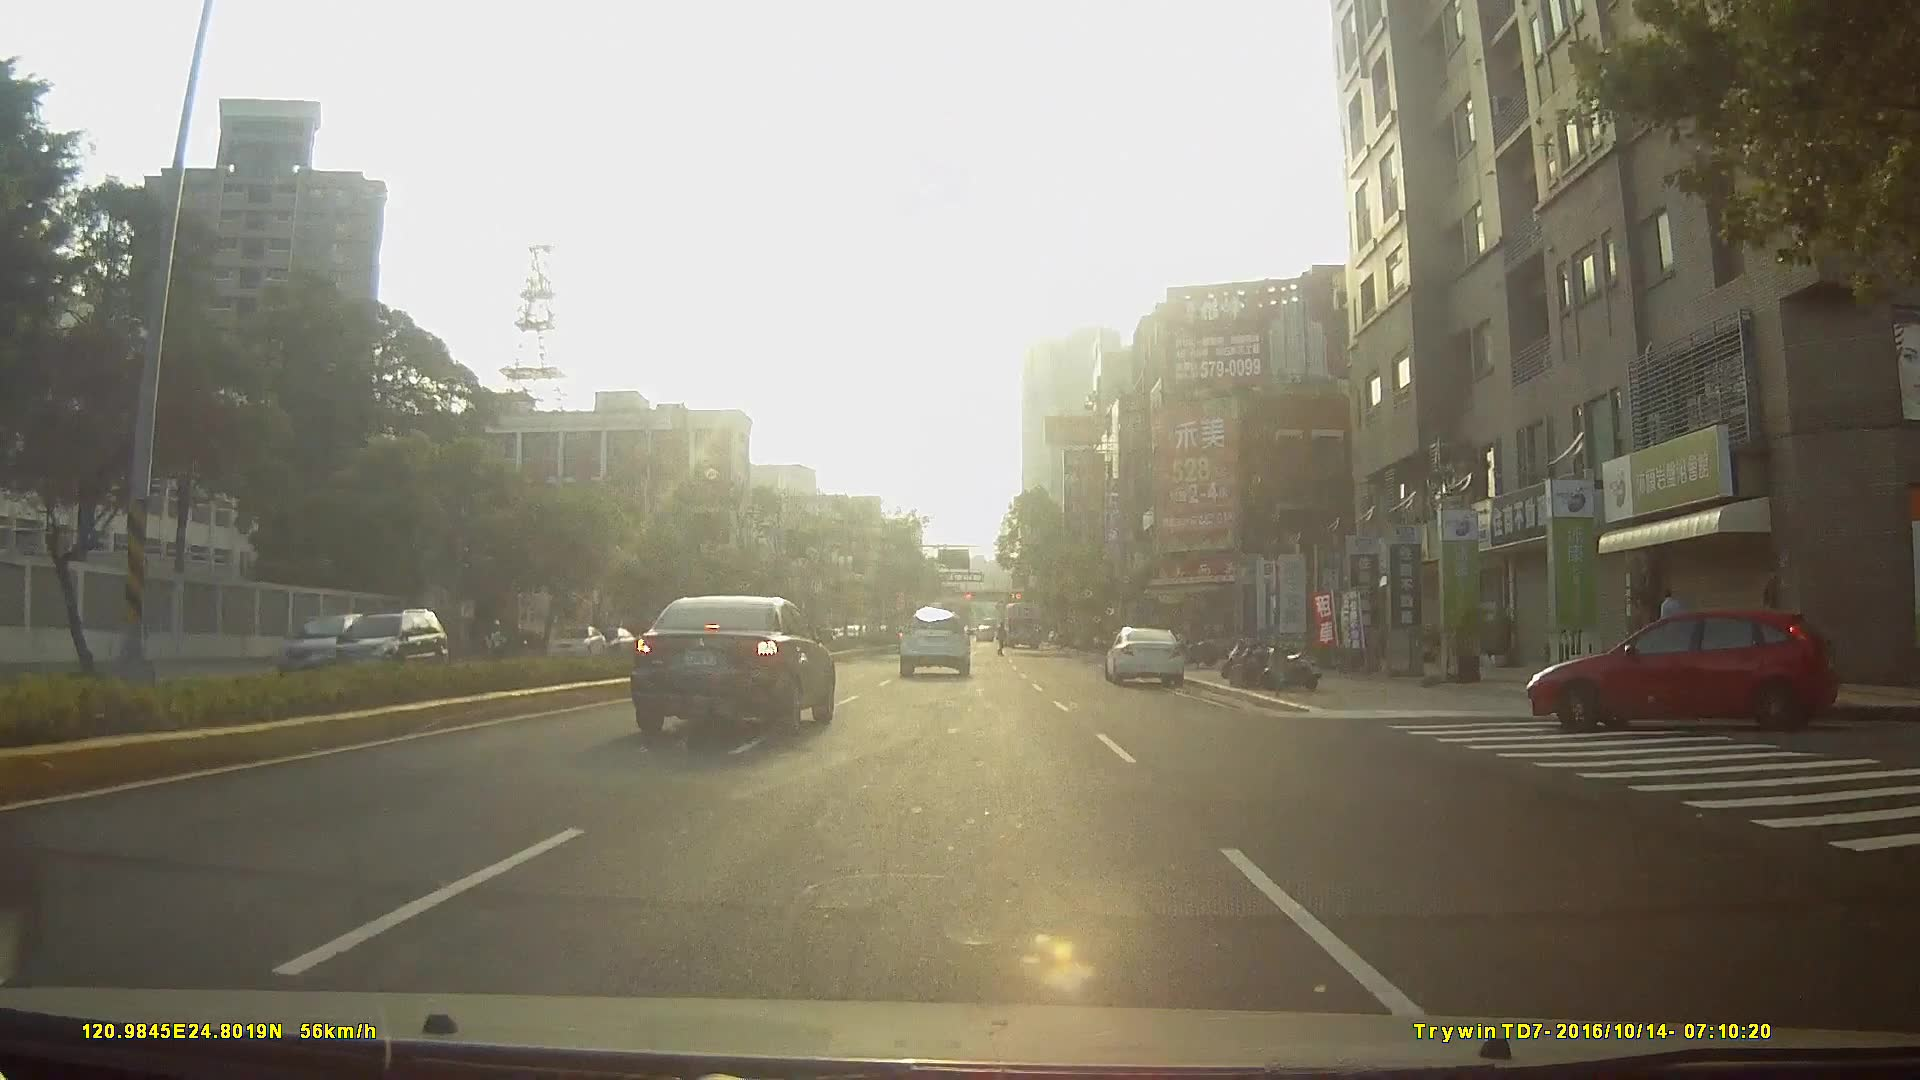pedestrian: (1655, 589, 1687, 679)
rider: (482, 617, 513, 665)
vehicle: (1532, 607, 1855, 737), (634, 594, 838, 736), (305, 605, 436, 677), (1103, 625, 1190, 687), (277, 613, 361, 676), (897, 607, 971, 678), (998, 600, 1044, 650), (546, 624, 605, 659)
